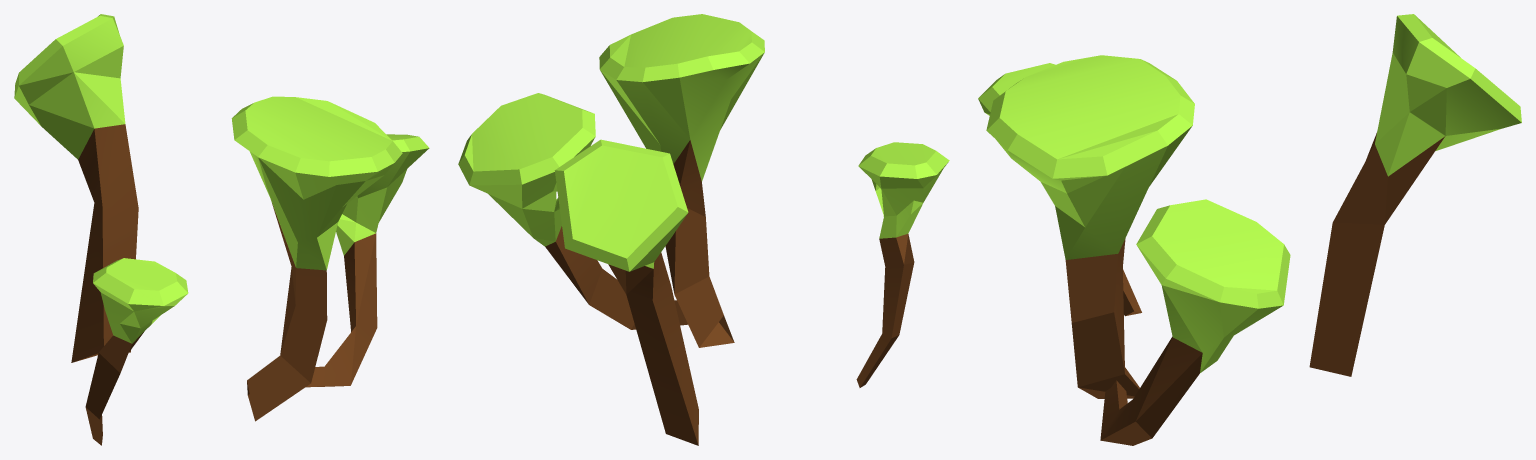
The model's file is MF_Weed_3.FBX.
The picture shows the model from 3 angles, left to right: view 1: azimuth 30°, elevation 25°; view 2: azimuth 150°, elevation 25°; view 3: azimuth 270°, elevation 25°; orthographic projection. The views are drawn at different scales.
Visible parts, largest first — view 1: Weed_3; view 2: Weed_3; view 3: Weed_3.
Boxes of the visible parts, <box> form: Weed_3: <box>14,14,429,445</box>; Weed_3: <box>458,14,949,445</box>; Weed_3: <box>978,14,1521,445</box>.
Size of the model in its own units: 1.39 by 1.43 by 1.04.
